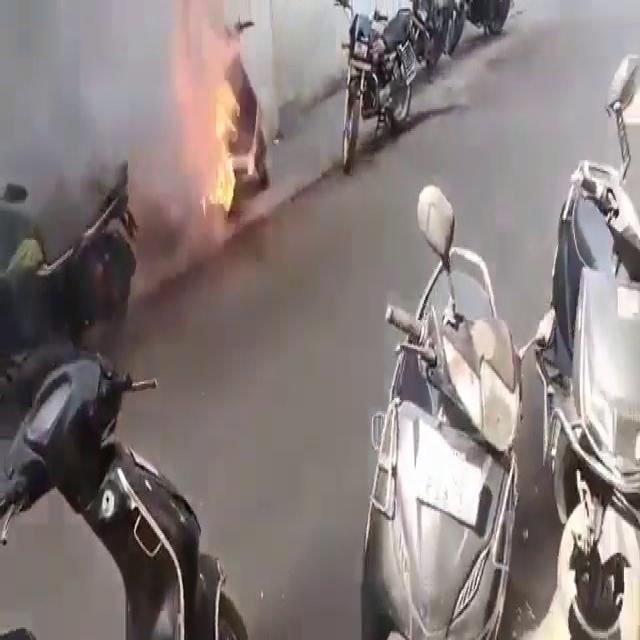Fire: (204, 64, 244, 225)
Smoke: (0, 0, 235, 245)
